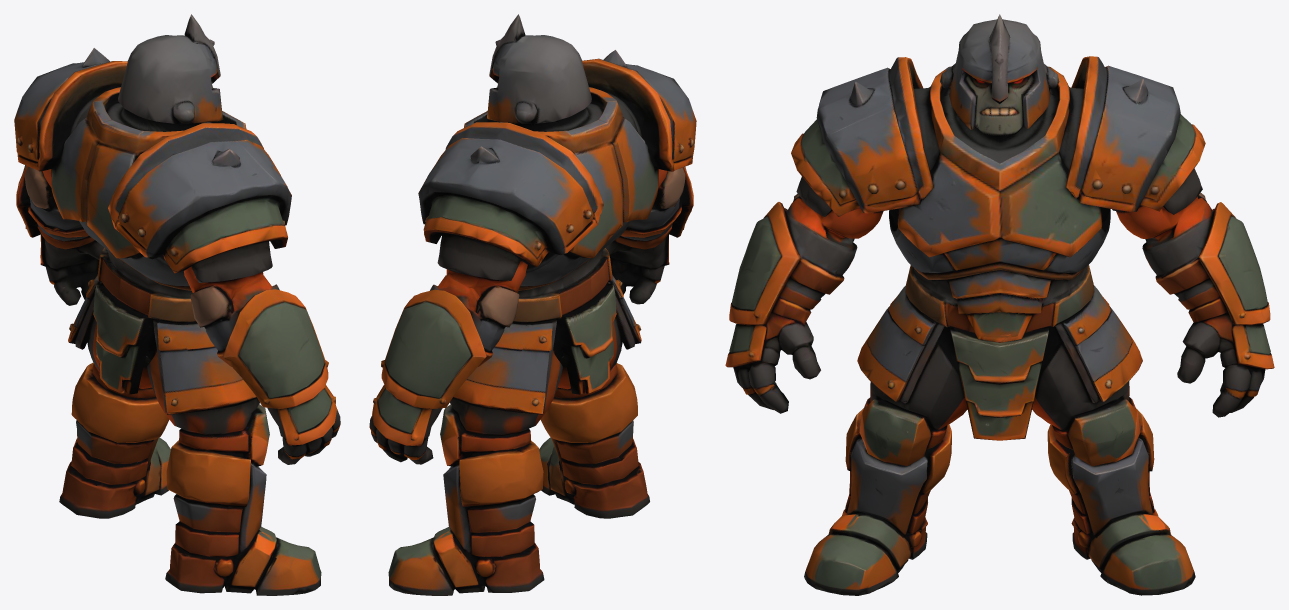
The model's file is ironhide-mesh.glb.
3 renders of one model, left to right at view 1: azimuth 30°, elevation 25°; view 2: azimuth 150°, elevation 25°; view 3: azimuth 270°, elevation 25°, orthographic. The views are drawn at different scales.
Visible parts, largest first — view 1: tripo_node_dc21b280-9485-4c18-ac59-2b5cef6fb16d; view 2: tripo_node_dc21b280-9485-4c18-ac59-2b5cef6fb16d; view 3: tripo_node_dc21b280-9485-4c18-ac59-2b5cef6fb16d.
Part boxes in pixels (x1,y1,x2,y2): tripo_node_dc21b280-9485-4c18-ac59-2b5cef6fb16d: (14,14,340,595); tripo_node_dc21b280-9485-4c18-ac59-2b5cef6fb16d: (369,14,696,595); tripo_node_dc21b280-9485-4c18-ac59-2b5cef6fb16d: (725,14,1274,595).
Size of the model in its own units: 0.37 by 1 by 0.8972.
Materials: 1 (1 with a texture image).
